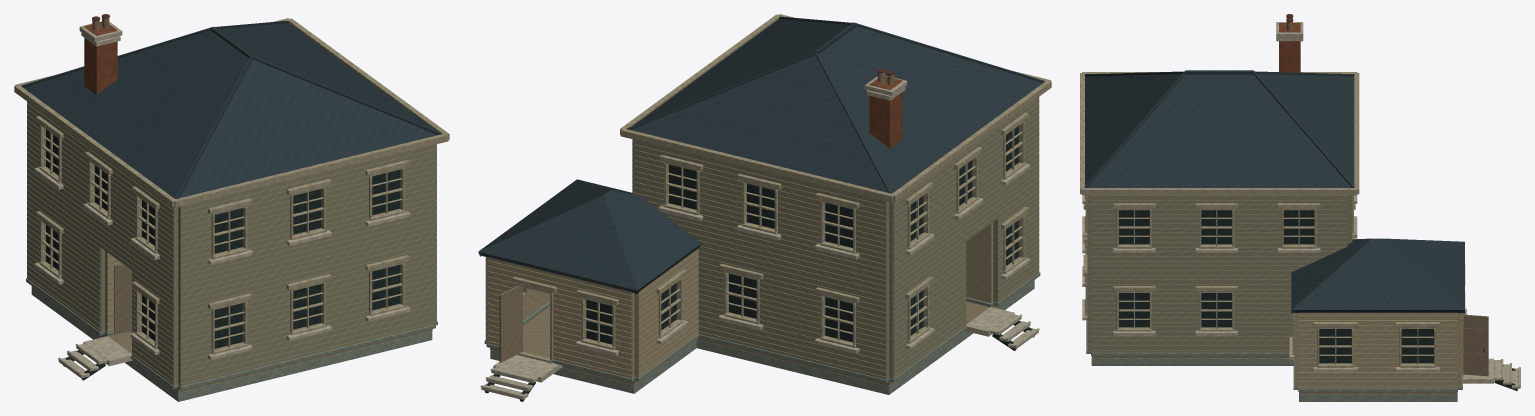
3 renders of one model, left to right at view 1: azimuth 30°, elevation 25°; view 2: azimuth 150°, elevation 25°; view 3: azimuth 270°, elevation 25°, orthographic. The views are drawn at different scales.
Visible parts, largest first — view 1: A010-09_02_Clapboard, A010-09_11_Roof_High_Square_Hip, A010-09_03_Window_Door_Frames, A010-09_04_Architectural_Trim, A010-09_06_Glazing, A010-09_12_Roof_Edges, A010-09_00_Foundation, A010-09_01_Wall_Shell, A010-09_13_Chimneys, A010-09_07_Floors, A010-09_05_Door_Leaf_00, A010-09_08_Stairs; view 2: A010-09_02_Clapboard, A010-09_11_Roof_High_Square_Hip, A010-09_11_Roof_Lower_Cross_Hip, A010-09_03_Window_Door_Frames, A010-09_04_Architectural_Trim, A010-09_06_Glazing, A010-09_01_Wall_Shell, A010-09_12_Roof_Edges, A010-09_00_Foundation, A010-09_07_Floors, A010-09_13_Chimneys, A010-09_08_Stairs (+1 smaller); view 3: A010-09_02_Clapboard, A010-09_11_Roof_High_Square_Hip, A010-09_11_Roof_Lower_Cross_Hip, A010-09_06_Glazing, A010-09_04_Architectural_Trim, A010-09_03_Window_Door_Frames, A010-09_12_Roof_Edges, A010-09_01_Wall_Shell, A010-09_00_Foundation, A010-09_05_Door_Leaf_01, A010-09_13_Chimneys, A010-09_07_Floors (+1 smaller).
Part boxes in pixels (bbox=[...]): A010-09_02_Clapboard: bbox=[27, 101, 436, 386]; A010-09_11_Roof_High_Square_Hip: bbox=[21, 20, 442, 199]; A010-09_03_Window_Door_Frames: bbox=[39, 124, 405, 354]; A010-09_04_Architectural_Trim: bbox=[26, 116, 437, 390]; A010-09_06_Glazing: bbox=[46, 129, 399, 348]; A010-09_12_Roof_Edges: bbox=[14, 18, 449, 207]; A010-09_00_Foundation: bbox=[31, 286, 432, 401]; A010-09_01_Wall_Shell: bbox=[44, 128, 436, 385]; A010-09_13_Chimneys: bbox=[79, 14, 122, 94]; A010-09_07_Floors: bbox=[83, 329, 432, 392]; A010-09_05_Door_Leaf_00: bbox=[114, 264, 131, 333]; A010-09_08_Stairs: bbox=[58, 343, 107, 378]; A010-09_02_Clapboard: bbox=[485, 97, 1039, 379]; A010-09_11_Roof_High_Square_Hip: bbox=[627, 16, 1044, 193]; A010-09_11_Roof_Lower_Cross_Hip: bbox=[478, 179, 701, 294]; A010-09_03_Window_Door_Frames: bbox=[517, 121, 1025, 363]; A010-09_04_Architectural_Trim: bbox=[484, 112, 1040, 383]; A010-09_06_Glazing: bbox=[586, 126, 1018, 344]; A010-09_01_Wall_Shell: bbox=[486, 125, 1020, 379]; A010-09_12_Roof_Edges: bbox=[620, 14, 1051, 202]; A010-09_00_Foundation: bbox=[490, 280, 1034, 394]; A010-09_07_Floors: bbox=[490, 301, 1014, 385]; A010-09_13_Chimneys: bbox=[864, 68, 907, 148]; A010-09_08_Stairs: bbox=[480, 314, 1039, 399]; A010-09_02_Clapboard: bbox=[1087, 195, 1461, 388]; A010-09_11_Roof_High_Square_Hip: bbox=[1084, 70, 1354, 187]; A010-09_11_Roof_Lower_Cross_Hip: bbox=[1291, 238, 1464, 313]; A010-09_06_Glazing: bbox=[1119, 210, 1433, 363]; A010-09_04_Architectural_Trim: bbox=[1082, 195, 1466, 391]; A010-09_03_Window_Door_Frames: bbox=[1085, 195, 1464, 376]; A010-09_12_Roof_Edges: bbox=[1080, 72, 1359, 195]; A010-09_01_Wall_Shell: bbox=[1088, 195, 1460, 387]; A010-09_00_Foundation: bbox=[1091, 358, 1457, 401]; A010-09_05_Door_Leaf_01: bbox=[1463, 314, 1488, 376]; A010-09_13_Chimneys: bbox=[1276, 14, 1303, 72]; A010-09_07_Floors: bbox=[1091, 356, 1493, 393].
Bounding box in the file's own units: 13.19 × 9.32 × 14.46.
Materials: 13 (13 with a texture image).
